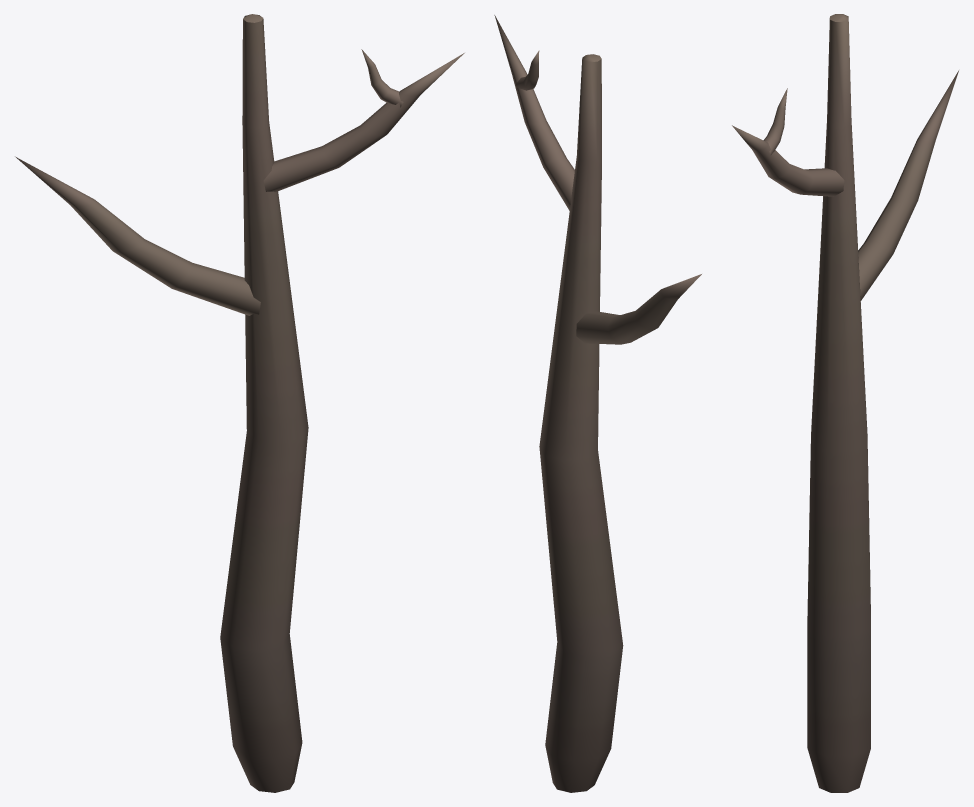
File: tree-dead.glb
3 views of the same model, side by side, from view 1: azimuth 30°, elevation 25°; view 2: azimuth 150°, elevation 25°; view 3: azimuth 270°, elevation 25° (orthographic). The views are drawn at different scales.
Visible parts, largest first — view 1: tree_dead_large; view 2: tree_dead_large; view 3: tree_dead_large.
Boxes of the visible parts, x1=… form: tree_dead_large: x1=15, y1=14, x2=464, y2=792; tree_dead_large: x1=494, y1=15, x2=701, y2=792; tree_dead_large: x1=732, y1=14, x2=958, y2=792.
Bounding box in the file's own units: 2.3 × 5.07 × 1.38.
1 material, 1 textured.
